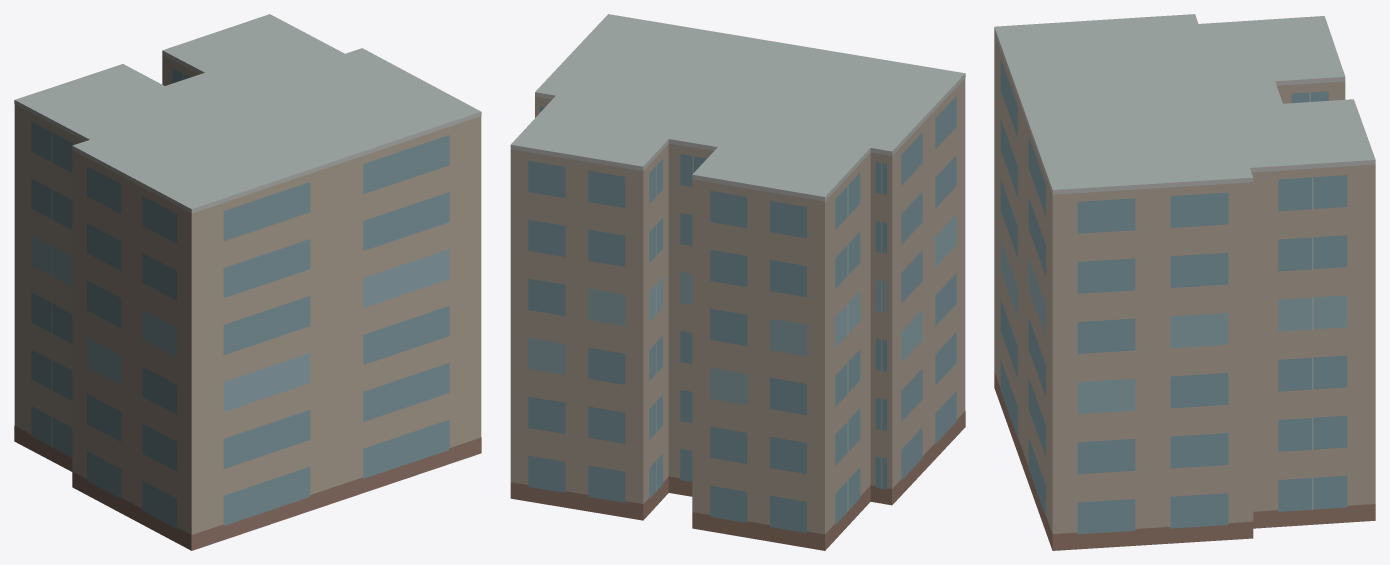
File: survey-upis-32743172.glb
3 views of the same model, side by side, from view 1: azimuth 30°, elevation 25°; view 2: azimuth 150°, elevation 25°; view 3: azimuth 270°, elevation 25° (orthographic). The views are drawn at different scales.
Visible parts, largest first — view 1: survey-upis-32743172.tmp; view 2: survey-upis-32743172.tmp; view 3: survey-upis-32743172.tmp.
Boxes of the visible parts, bbox=[...] form: survey-upis-32743172.tmp: bbox=[14, 14, 481, 550]; survey-upis-32743172.tmp: bbox=[510, 14, 965, 550]; survey-upis-32743172.tmp: bbox=[994, 14, 1375, 550].
Bounding box in the file's own units: 20.1 × 19.2 × 18.4.
